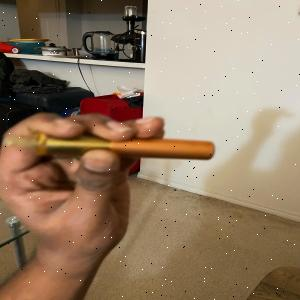Golden-E-Ciggirate: (3, 130, 219, 164)
